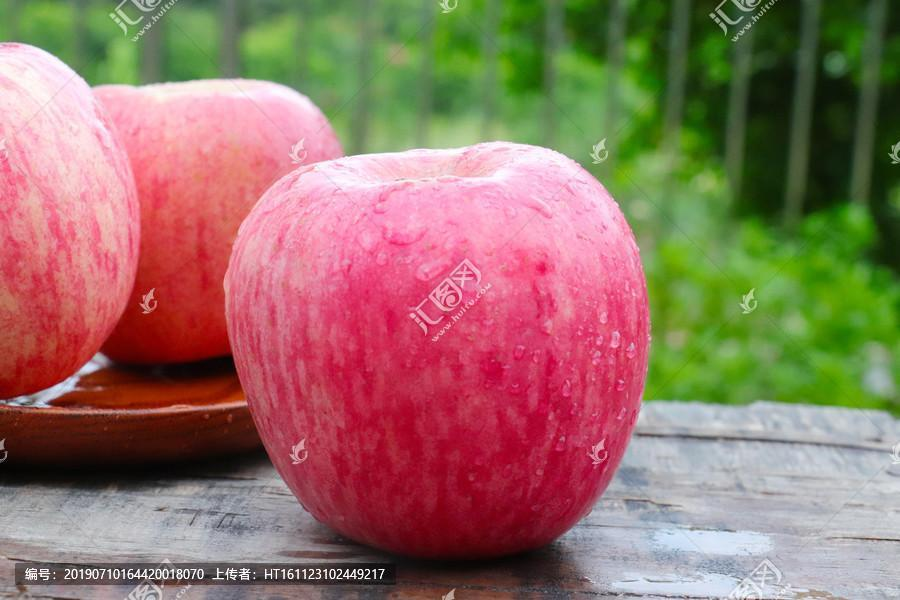apple: (232, 143, 654, 553), (96, 69, 338, 368), (2, 39, 134, 404)
